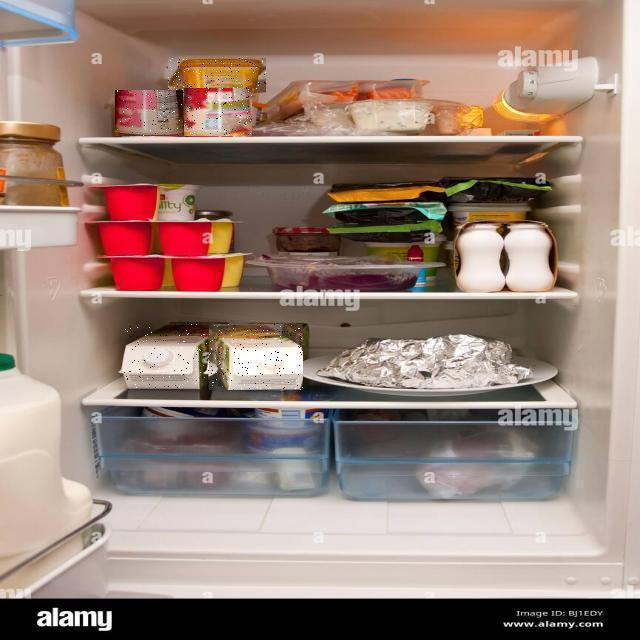Cream: (168, 58, 266, 93)
Milk: (123, 324, 227, 388), (209, 325, 303, 391)
Yoghurt: (184, 89, 252, 137), (115, 91, 183, 137)
